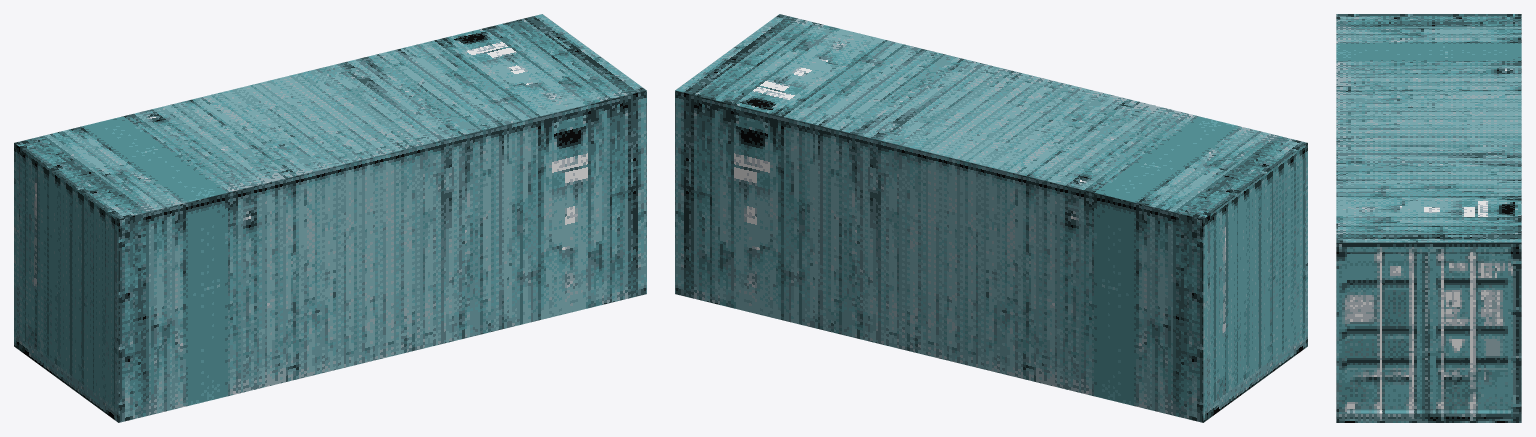
Rendered from Container_Blue.glb.
The picture shows the model from 3 angles, left to right: view 1: azimuth 30°, elevation 25°; view 2: azimuth 150°, elevation 25°; view 3: azimuth 270°, elevation 25°; orthographic projection. The views are drawn at different scales.
Parts seen in each view (by area): view 1: Container Blue; view 2: Container Blue; view 3: Container Blue.
Boxes of the visible parts, x1,y1,x2,y2 form: Container Blue: (14, 14, 646, 422); Container Blue: (675, 14, 1307, 422); Container Blue: (1336, 14, 1521, 422).
Bounding box in the file's own units: 2.74 × 1.01 × 0.9388.
Materials: 1 (1 with a texture image).
